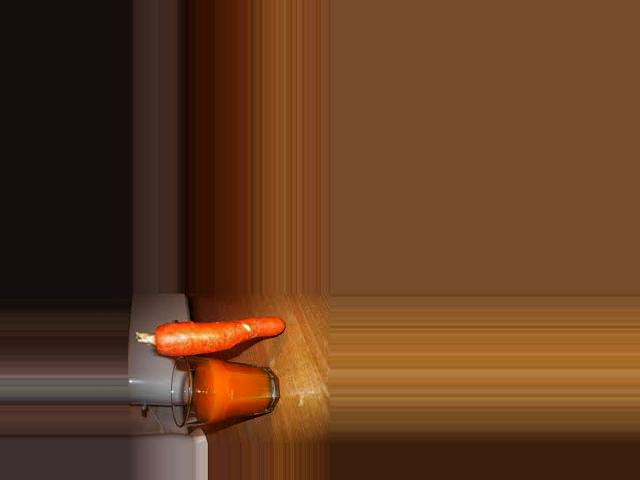carrot: (147, 311, 291, 362)
